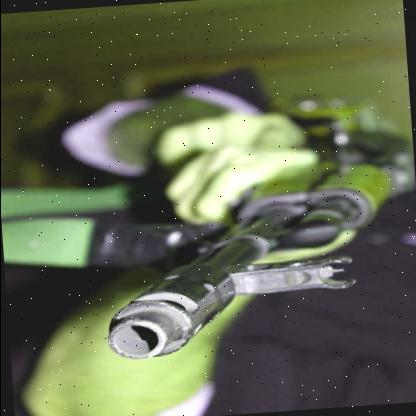rifle: (75, 114, 416, 373)
